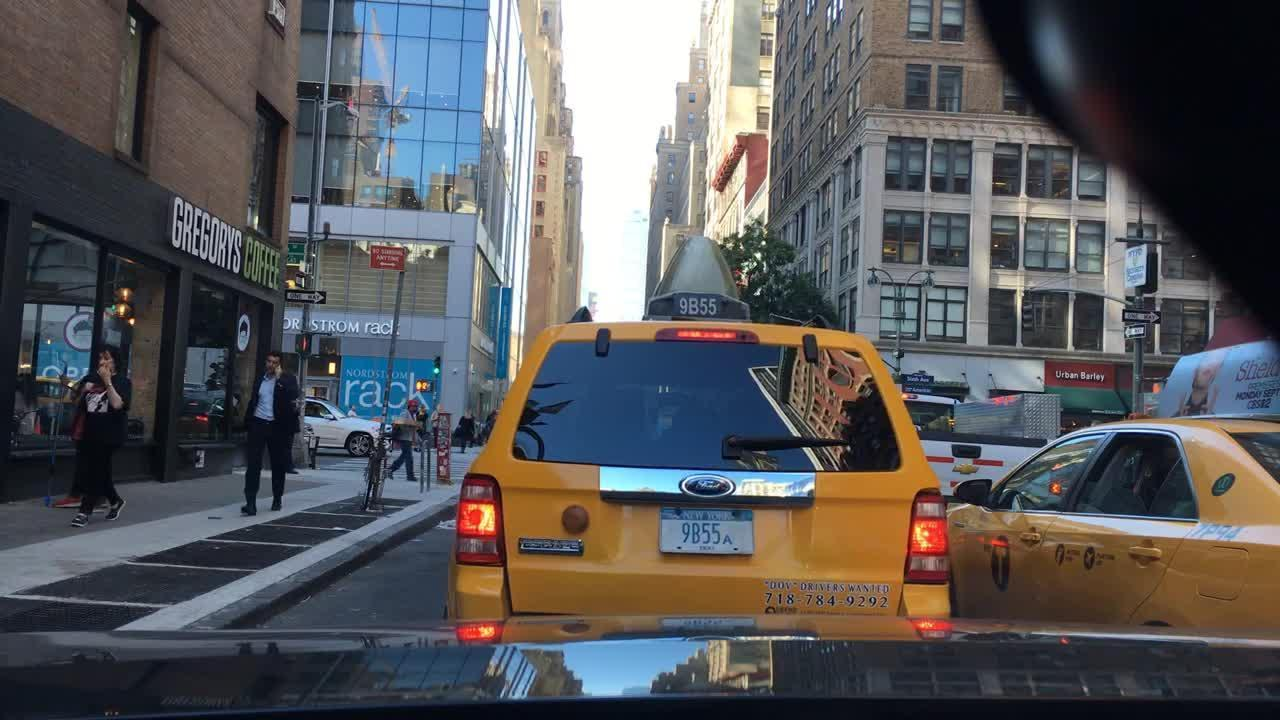ford: (670, 472, 742, 501)
